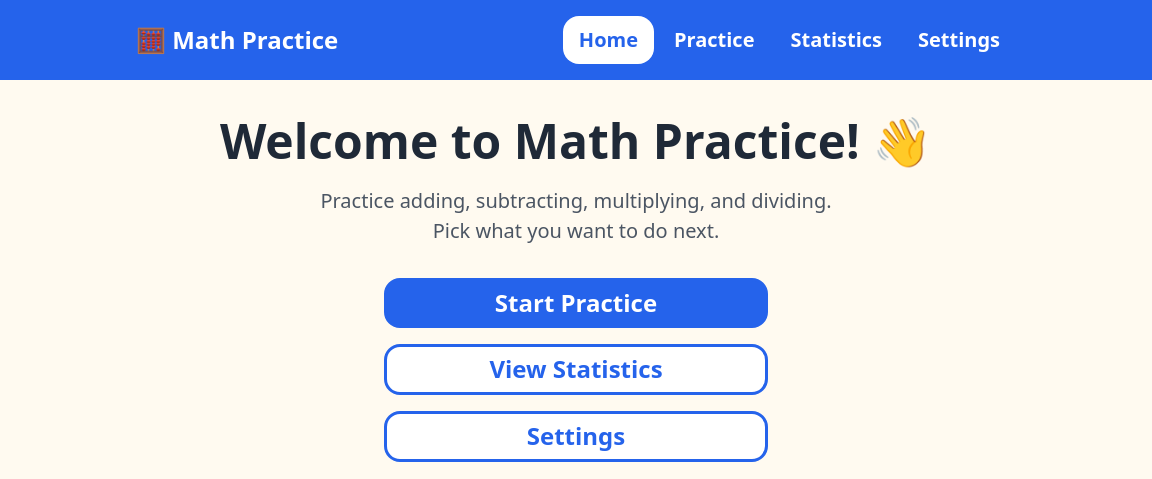
Scenario: HomePage › the "View Statistics" button goes to /statistics
Click the link "View Statistics" at point(576, 370), box left=384, top=344, right=768, bottom=395
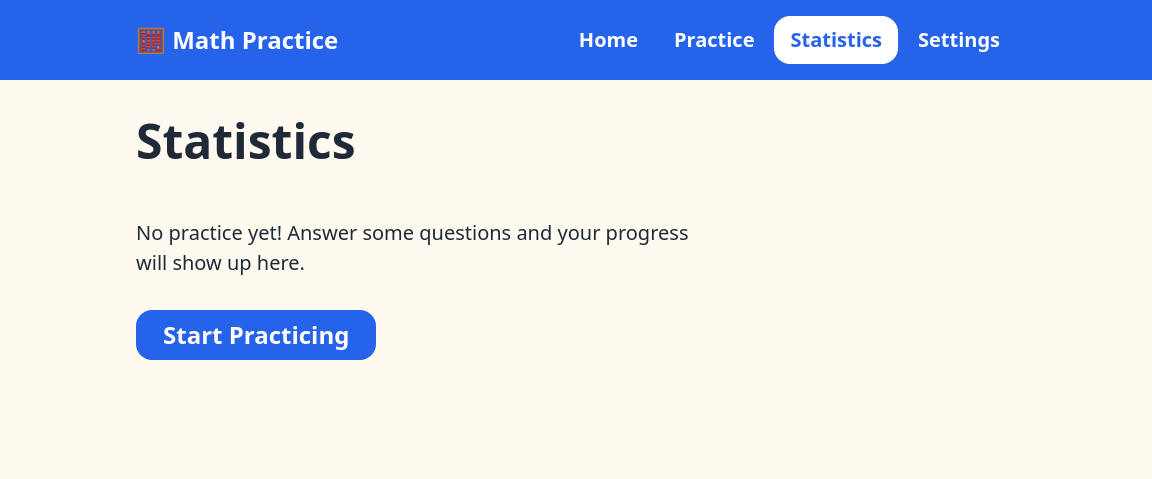
Check: the heading "Statistics" is shown, box left=136, top=108, right=356, bottom=173
